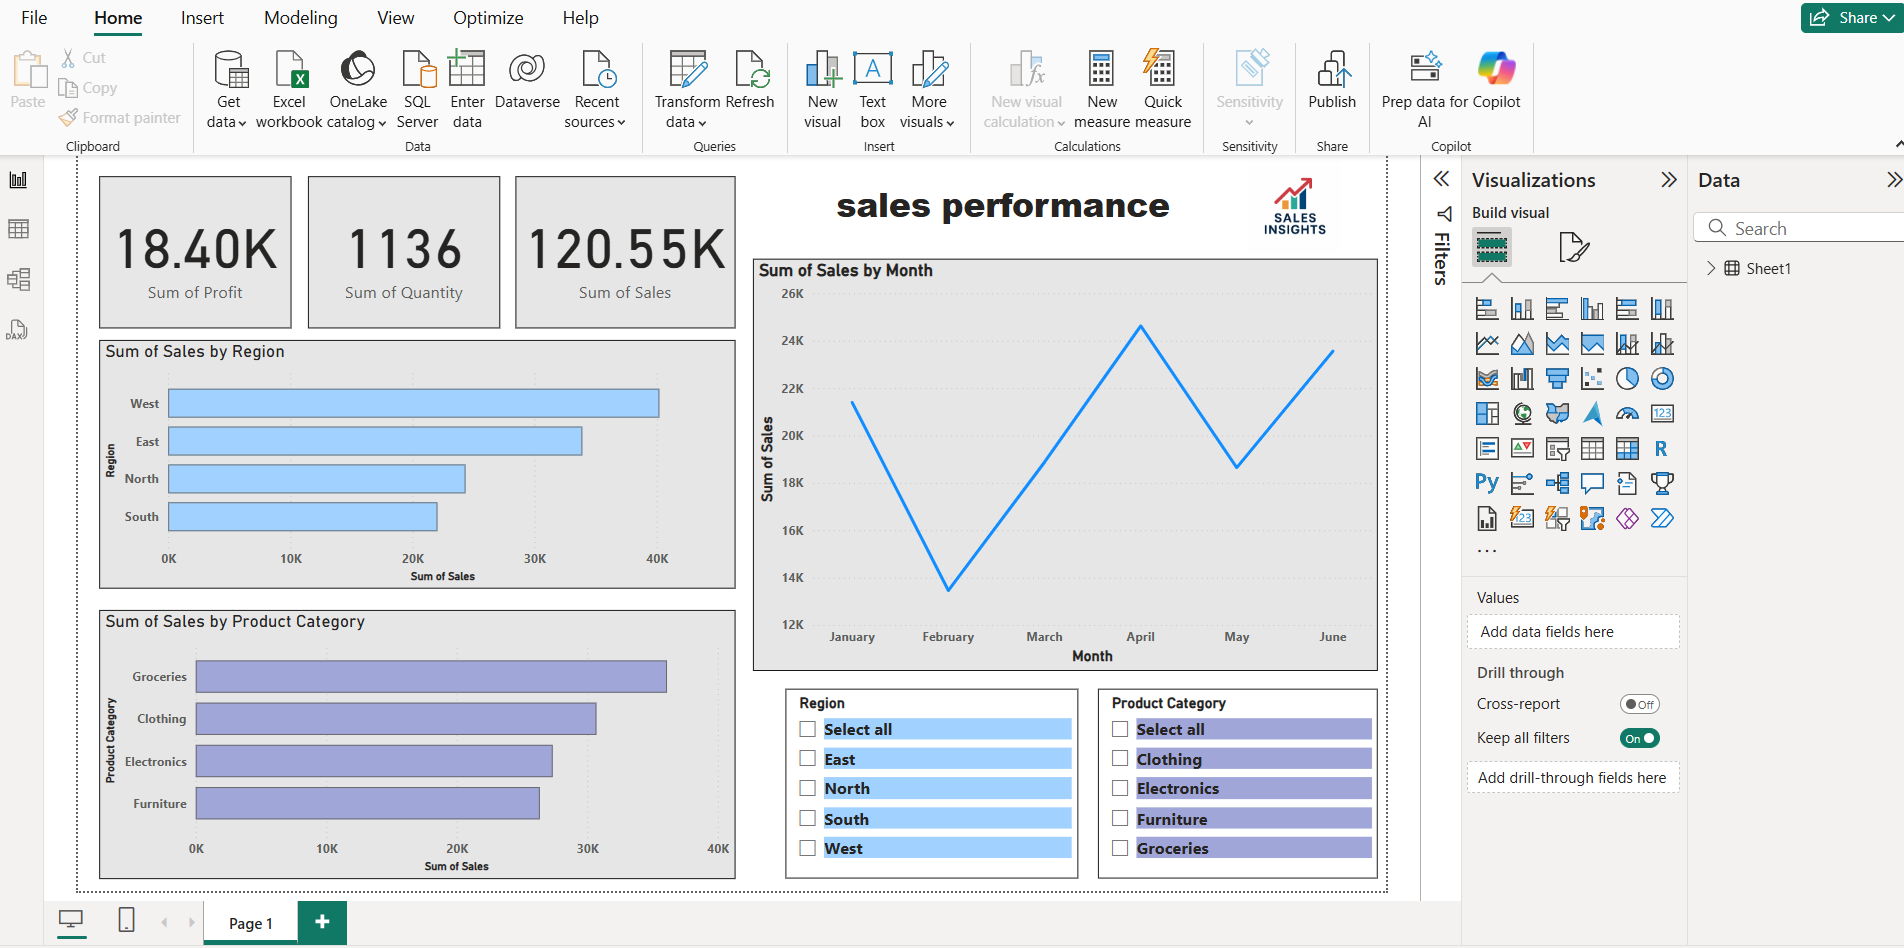

This screenshot's page, from the dashboard's own definition file:
{"tool":"powerbi","page":{"name":"Page 1","canvas":[1280,720],"ordinal":0},"visuals":[{"type":"card","fields":{"Values":["Sum(Sheet1.Profit)"]},"box":[20.8,20.8,188.3,149.2],"z":0},{"type":"card","fields":{"Values":["Sum(Sheet1.Sales)"]},"box":[428,20.8,215.2,149.2],"z":1000},{"type":"card","fields":{"Values":["Sum(Sheet1.Quantity)"]},"box":[225,20.8,188.3,149.2],"z":2000},{"type":"lineChart","fields":{"Category":["Sheet1.S.Variation.Date Hierarchy.Month"],"Y":["Sum(Sheet1.Sales)"]},"box":[660.3,101.5,611.4,403.5],"z":3000},{"type":"slicer","fields":{"Values":["Sheet1.Region"]},"box":[692.1,522.1,286.1,185.9],"z":4000},{"type":"slicer","fields":{"Values":["Sheet1.Product Category"]},"box":[997.8,522.1,273.9,185.9],"z":5000},{"type":"barChart","fields":{"Y":["Sum(Sheet1.Sales)"],"Category":["Sheet1.Region"]},"box":[20.8,181,622.4,243.3],"z":6000},{"type":"barChart","fields":{"Y":["Sum(Sheet1.Sales)"],"Category":["Sheet1.Product Category"]},"box":[20.8,445.1,622.4,262.9],"z":7000},{"type":"image","box":[1100.5,0,179.8,101.5],"z":8000},{"type":"textbox","box":[675,20.8,459.8,66],"z":9000}]}

Visuals, with their boxes on the page's 1280x720 design canvas (x1, y1, x2, y2). These are canvas units, not pixel positions in the 1904x948 screenshot, which may show the page scaled, cropped or inside an application window:
card - Sum(Sheet1.Profit): [21, 21, 209, 170]
card - Sum(Sheet1.Sales): [428, 21, 643, 170]
card - Sum(Sheet1.Quantity): [225, 21, 413, 170]
lineChart - Sheet1.S.Variation.Date Hierarchy.Month x Sum(Sheet1.Sales): [660, 102, 1272, 505]
slicer - Sheet1.Region: [692, 522, 978, 708]
slicer - Sheet1.Product Category: [998, 522, 1272, 708]
barChart - Sum(Sheet1.Sales) x Sheet1.Region: [21, 181, 643, 424]
barChart - Sum(Sheet1.Sales) x Sheet1.Product Category: [21, 445, 643, 708]
image: [1100, 0, 1280, 102]
textbox: [675, 21, 1135, 87]
